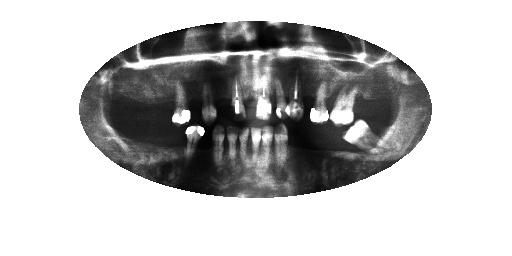i10decay: (224, 125, 238, 174)
i11decay: (211, 124, 224, 171)
i12loss: (199, 128, 212, 171)
i13healthy: (179, 127, 205, 159)
i14loss: (163, 127, 177, 163)
i15loss: (143, 128, 162, 163)
i16loss: (125, 129, 143, 162)
i1healthy: (343, 121, 376, 152)
i2loss: (327, 129, 341, 157)
i3loss: (314, 132, 326, 158)
i4loss: (301, 133, 312, 162)
i5loss: (287, 133, 299, 164)
i6decay: (273, 124, 288, 174)
i7decay: (260, 124, 272, 172)
i8healthy: (248, 125, 261, 172)
i9decay: (237, 125, 248, 174)
u10loss: (215, 84, 230, 117)
u11decay: (201, 82, 216, 125)
u12loss: (188, 82, 203, 120)
u13healthy: (171, 83, 191, 125)
u14loss: (158, 88, 172, 118)
u15loss: (147, 90, 158, 121)
u16loss: (130, 91, 146, 122)
u1loss: (356, 90, 371, 119)
u2healthy: (330, 82, 353, 126)
u3healthy: (309, 80, 330, 125)
u4loss: (303, 80, 310, 121)
u5decay: (286, 75, 302, 120), (272, 75, 287, 120)
u6healthy: (256, 61, 272, 121)
u8chipped: (240, 64, 255, 101)
u9decay: (227, 77, 245, 120)
